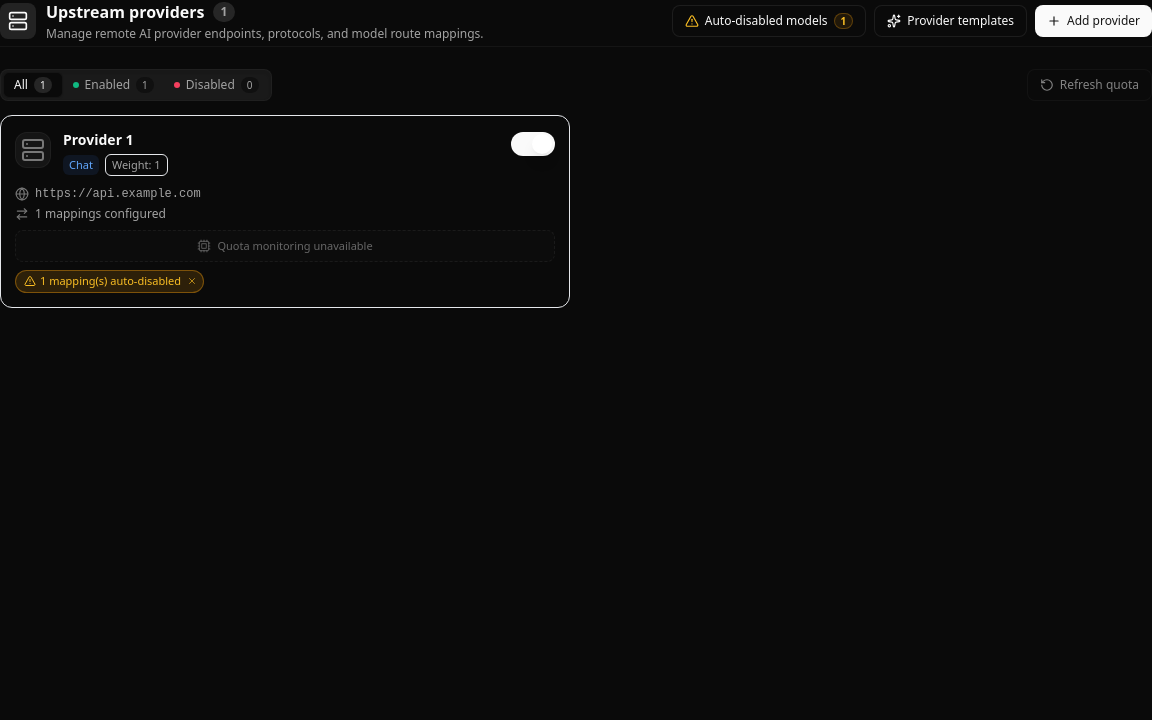
Scenario: Auto-disabled models dialog entry › searches models and sources with trimmed case-insensitive matching
The image size is (1152, 720).
Click the button with test id "ai-gateway-auto-disabled-models". click: (769, 21)
box: [672,5,866,37]
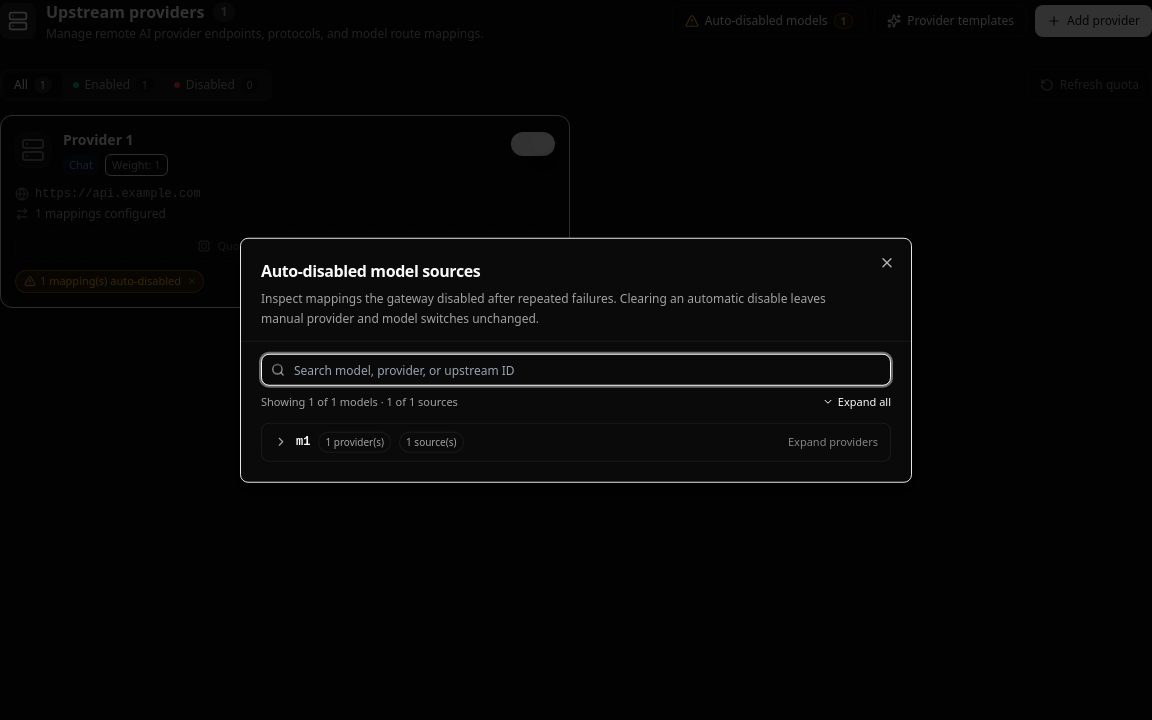
Type "  M1  " into the search field. click: (576, 370)
box: [261,354,891,386]
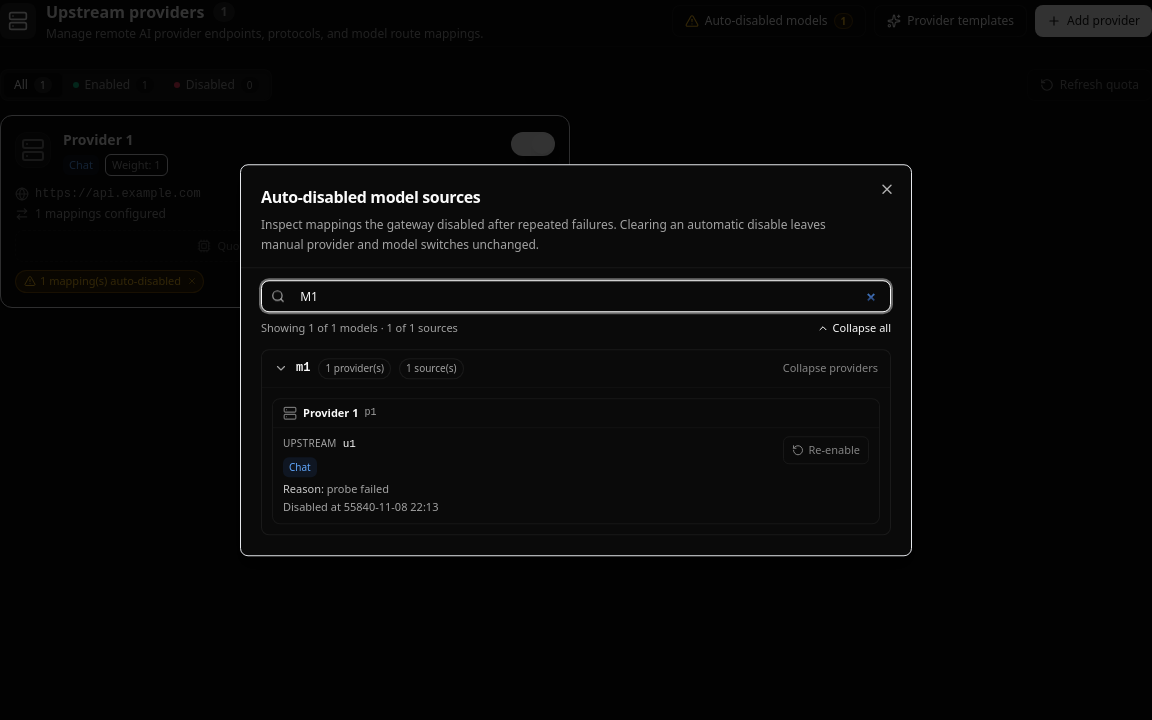
expect the heading "m1" is shown: met, box [296,360,310,376]
Clear the search field. click: (576, 296)
box: [261,280,891,312]
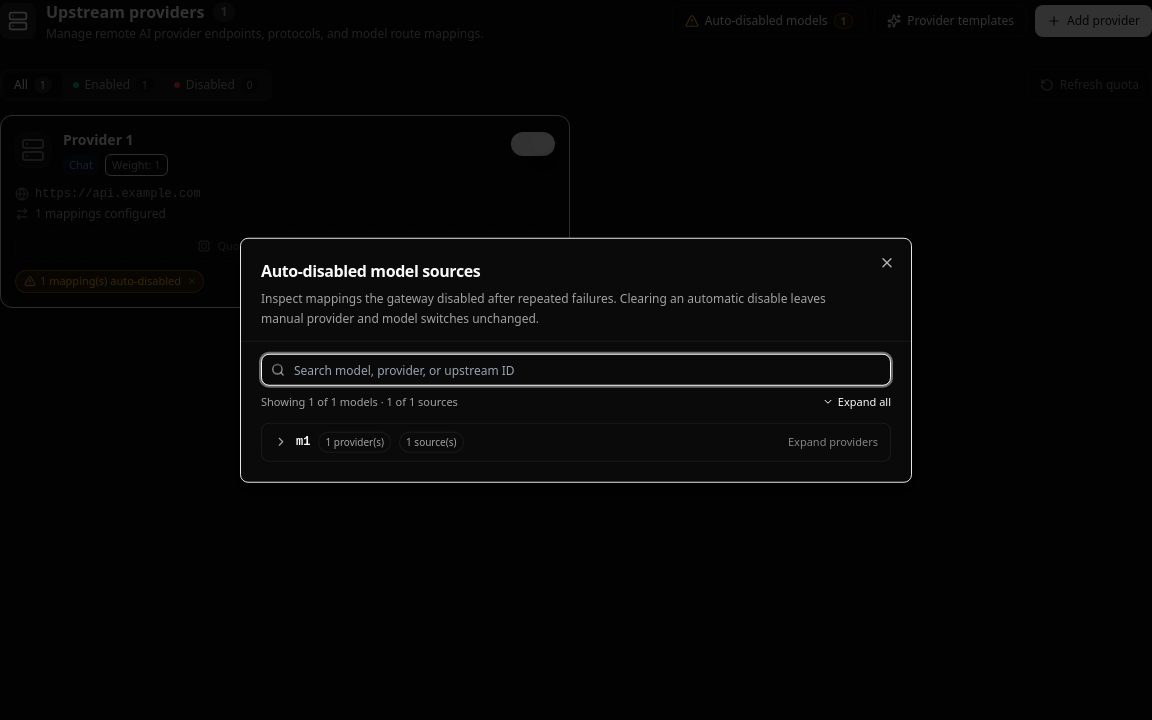
Type "nope" into the search field. click: (576, 370)
box: [261,354,891,386]
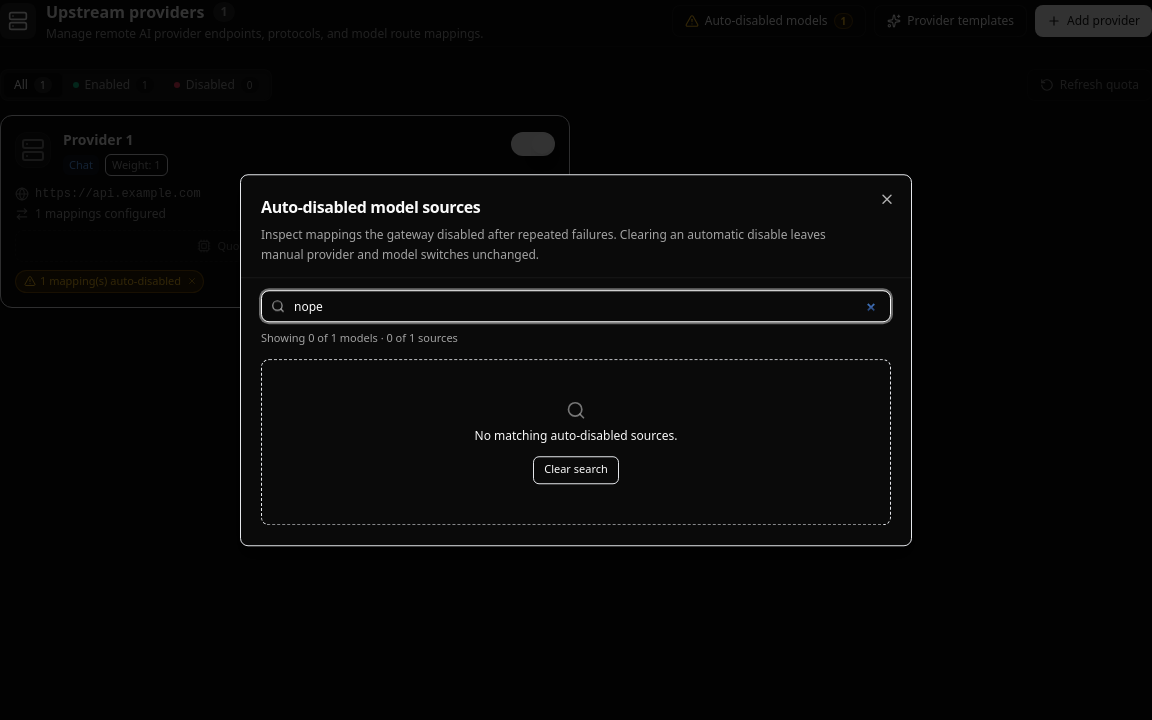
expect the text "No matching auto-disabled sources." is shown: met, box [474,428,677,444]
